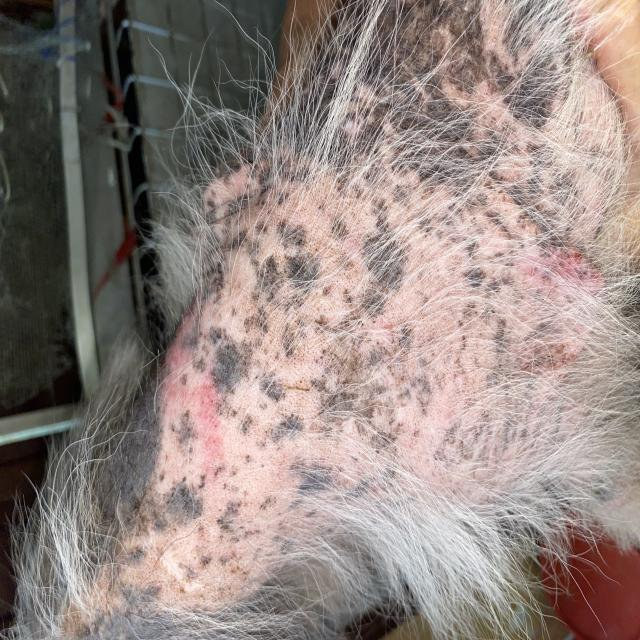demodicosis: (195, 237, 522, 531)
